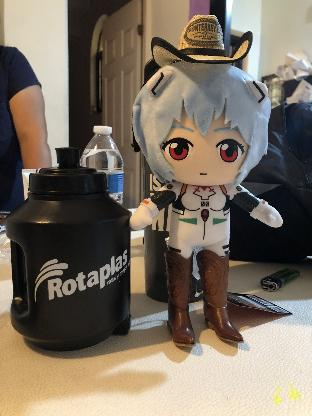rei-plush: (126, 60, 284, 256)
